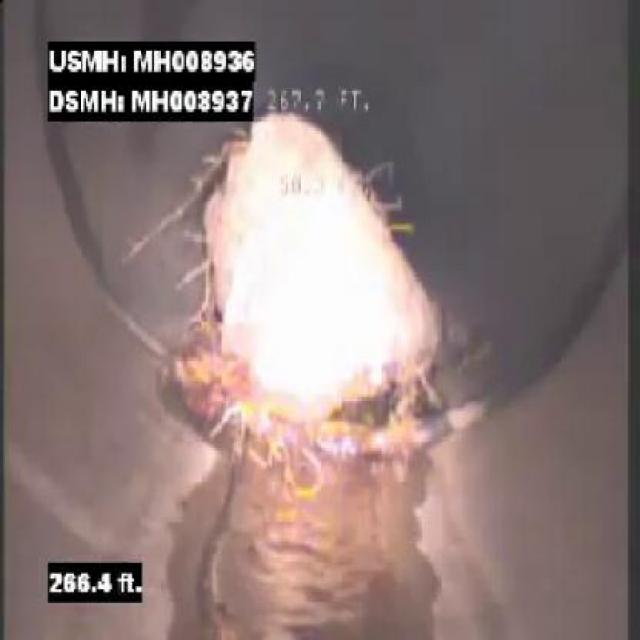Obstacle: (180, 115, 482, 457)
